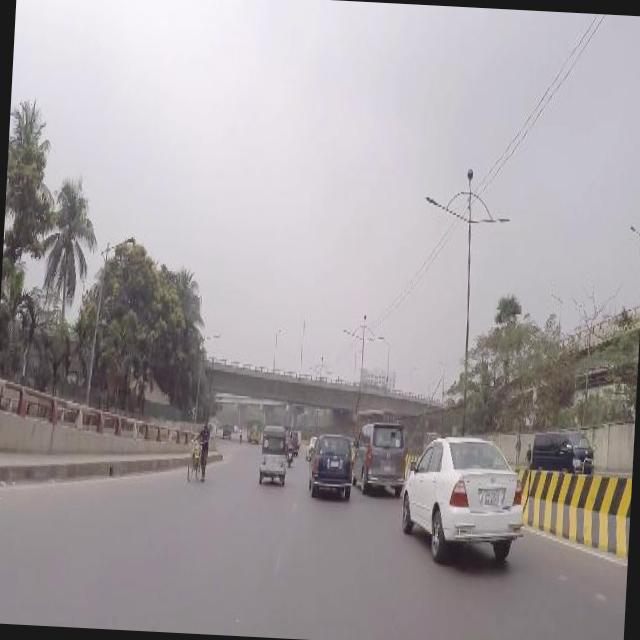bus: (355, 408, 393, 438), (246, 416, 260, 440)
car: (397, 433, 527, 565), (307, 432, 353, 496), (306, 434, 315, 456), (220, 422, 230, 436)
motorcycle: (256, 422, 288, 481), (284, 428, 294, 462)
truck: (350, 424, 405, 496), (529, 434, 597, 476)
